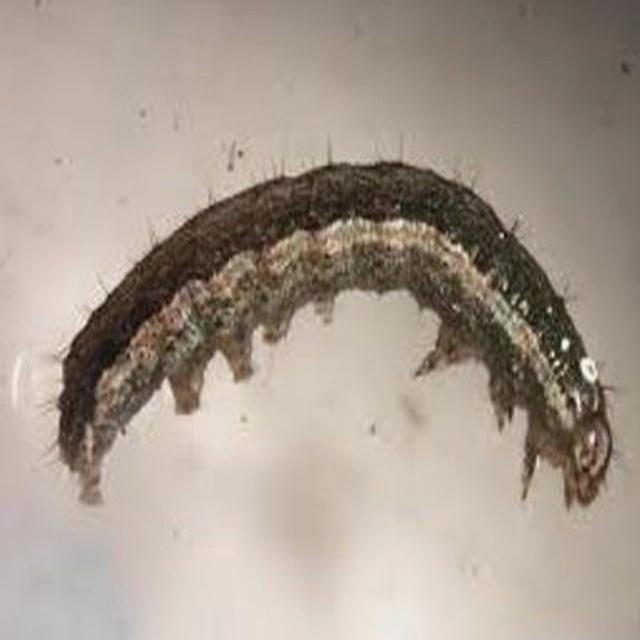gusano_cogollero: (49, 148, 619, 514)
